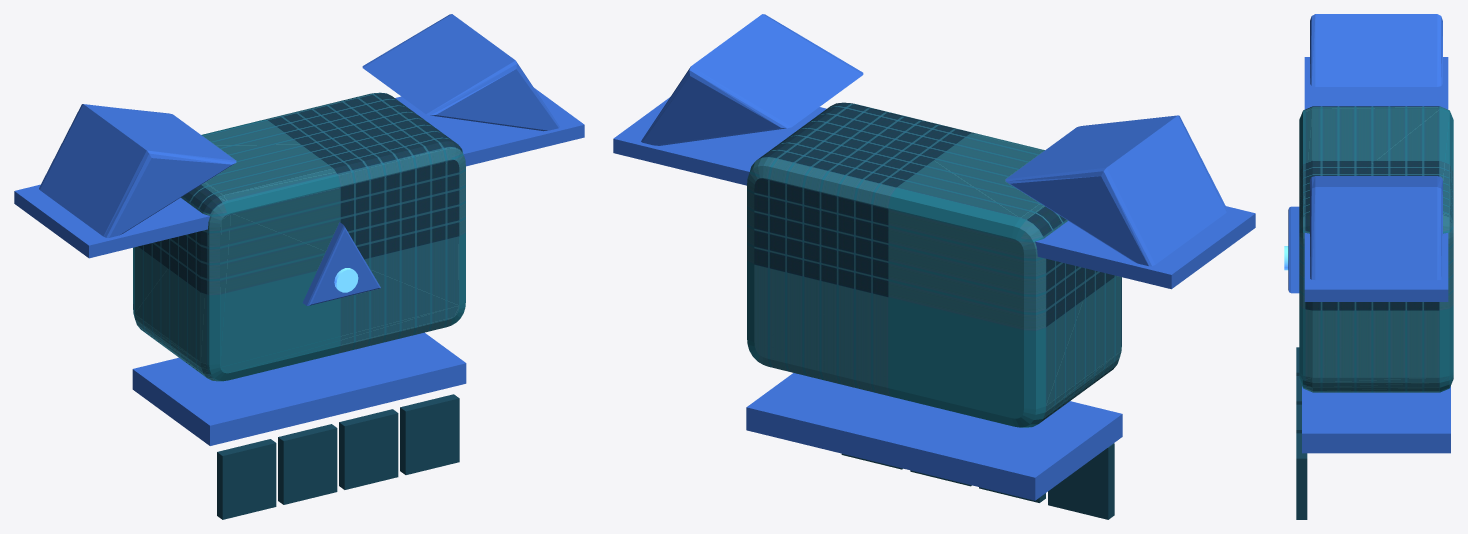
Rendered from eqf_eqsu1.glb.
3 views of the same model, side by side, from view 1: azimuth 30°, elevation 25°; view 2: azimuth 150°, elevation 25°; view 3: azimuth 270°, elevation 25° (orthographic). The views are drawn at different scales.
Size of the model in its own units: 4.06 by 2.96 by 1.25.
Materials: 4 (1 with a texture image).
